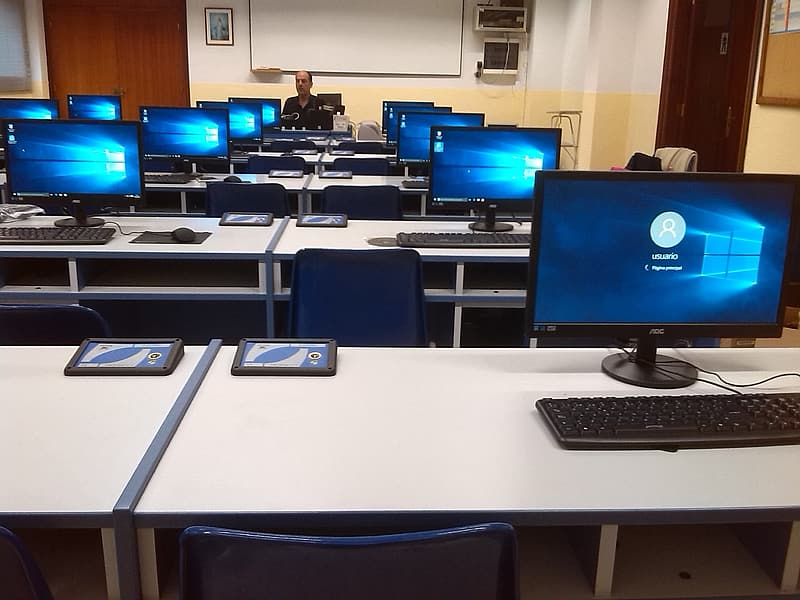keyboard: (522, 389, 800, 462), (389, 222, 534, 258), (1, 220, 120, 247), (142, 170, 196, 189)
monitor: (528, 162, 800, 384), (1, 121, 151, 207), (418, 122, 535, 212)
mouse: (158, 220, 205, 252), (220, 172, 245, 186)
